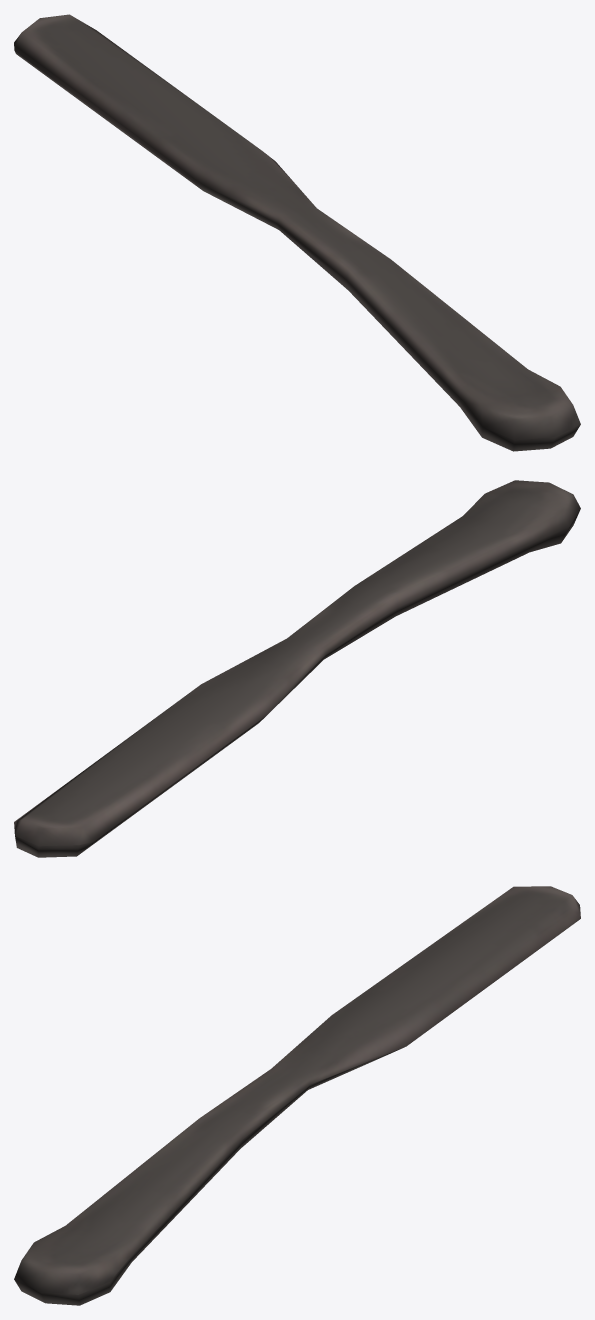
Rendered from Knife.fbx.
3 views of the same model, one above another, from view 1: azimuth 30°, elevation 25°; view 2: azimuth 150°, elevation 25°; view 3: azimuth 330°, elevation 25° (orthographic). The views are drawn at different scales.
Visible parts, largest first — view 1: Knife1; view 2: Knife1; view 3: Knife1.
Boxes of the visible parts, <box> form: Knife1: <box>14,14,580,451</box>; Knife1: <box>14,480,580,857</box>; Knife1: <box>14,886,580,1305</box>.
Bounding box in the file's own units: 0.2599 × 0.1416 × 2.56.
